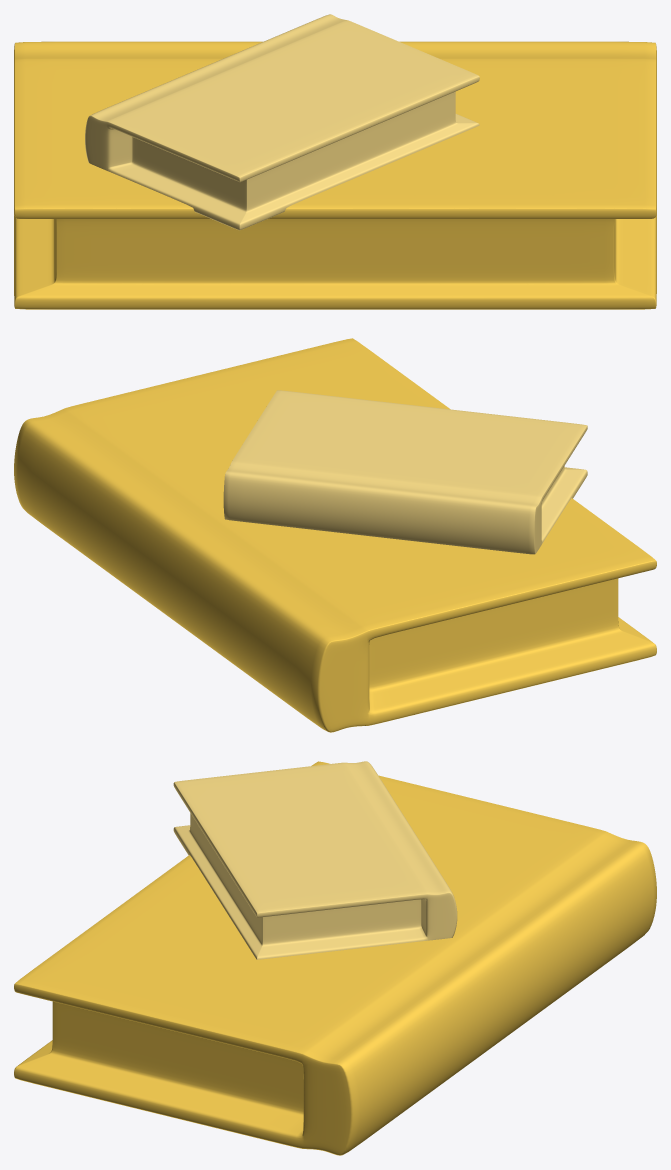
Rendered from Book3.glb.
3 renders of one model, top to bottom at view 1: azimuth 30°, elevation 25°; view 2: azimuth 150°, elevation 25°; view 3: azimuth 270°, elevation 25°, orthographic. The views are drawn at different scales.
Parts seen in each view (by area): view 1: pCube31, pCube32; view 2: pCube31, pCube32; view 3: pCube31, pCube32.
Boxes of the visible parts, box(x1,y1,x2,y2) form: pCube31: box(14, 41, 656, 309); pCube32: box(85, 14, 479, 230); pCube31: box(14, 338, 656, 732); pCube32: box(223, 390, 587, 554); pCube31: box(14, 761, 656, 1155); pCube32: box(173, 761, 457, 959).
Size of the model in its own units: 91.1 by 20.22 by 81.18.
